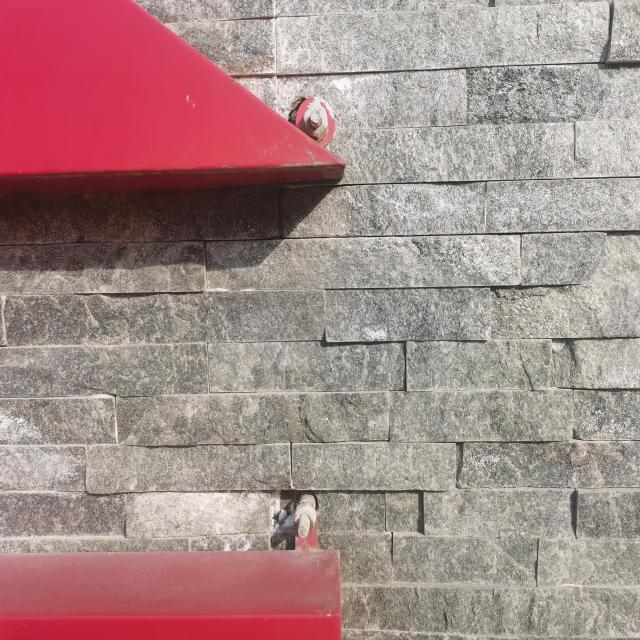bolt nut: (302, 102, 330, 142), (292, 501, 318, 536)
